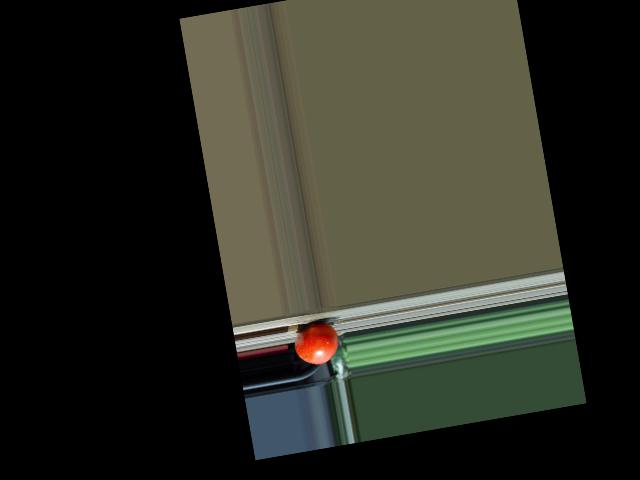tomato: (292, 321, 342, 368)
